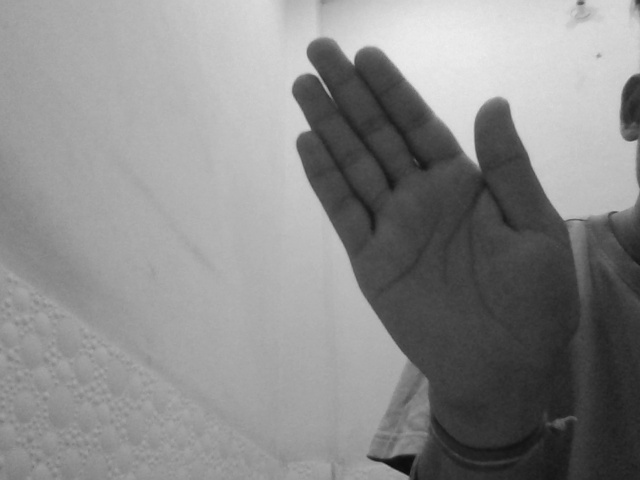Hello: (286, 33, 579, 401)
